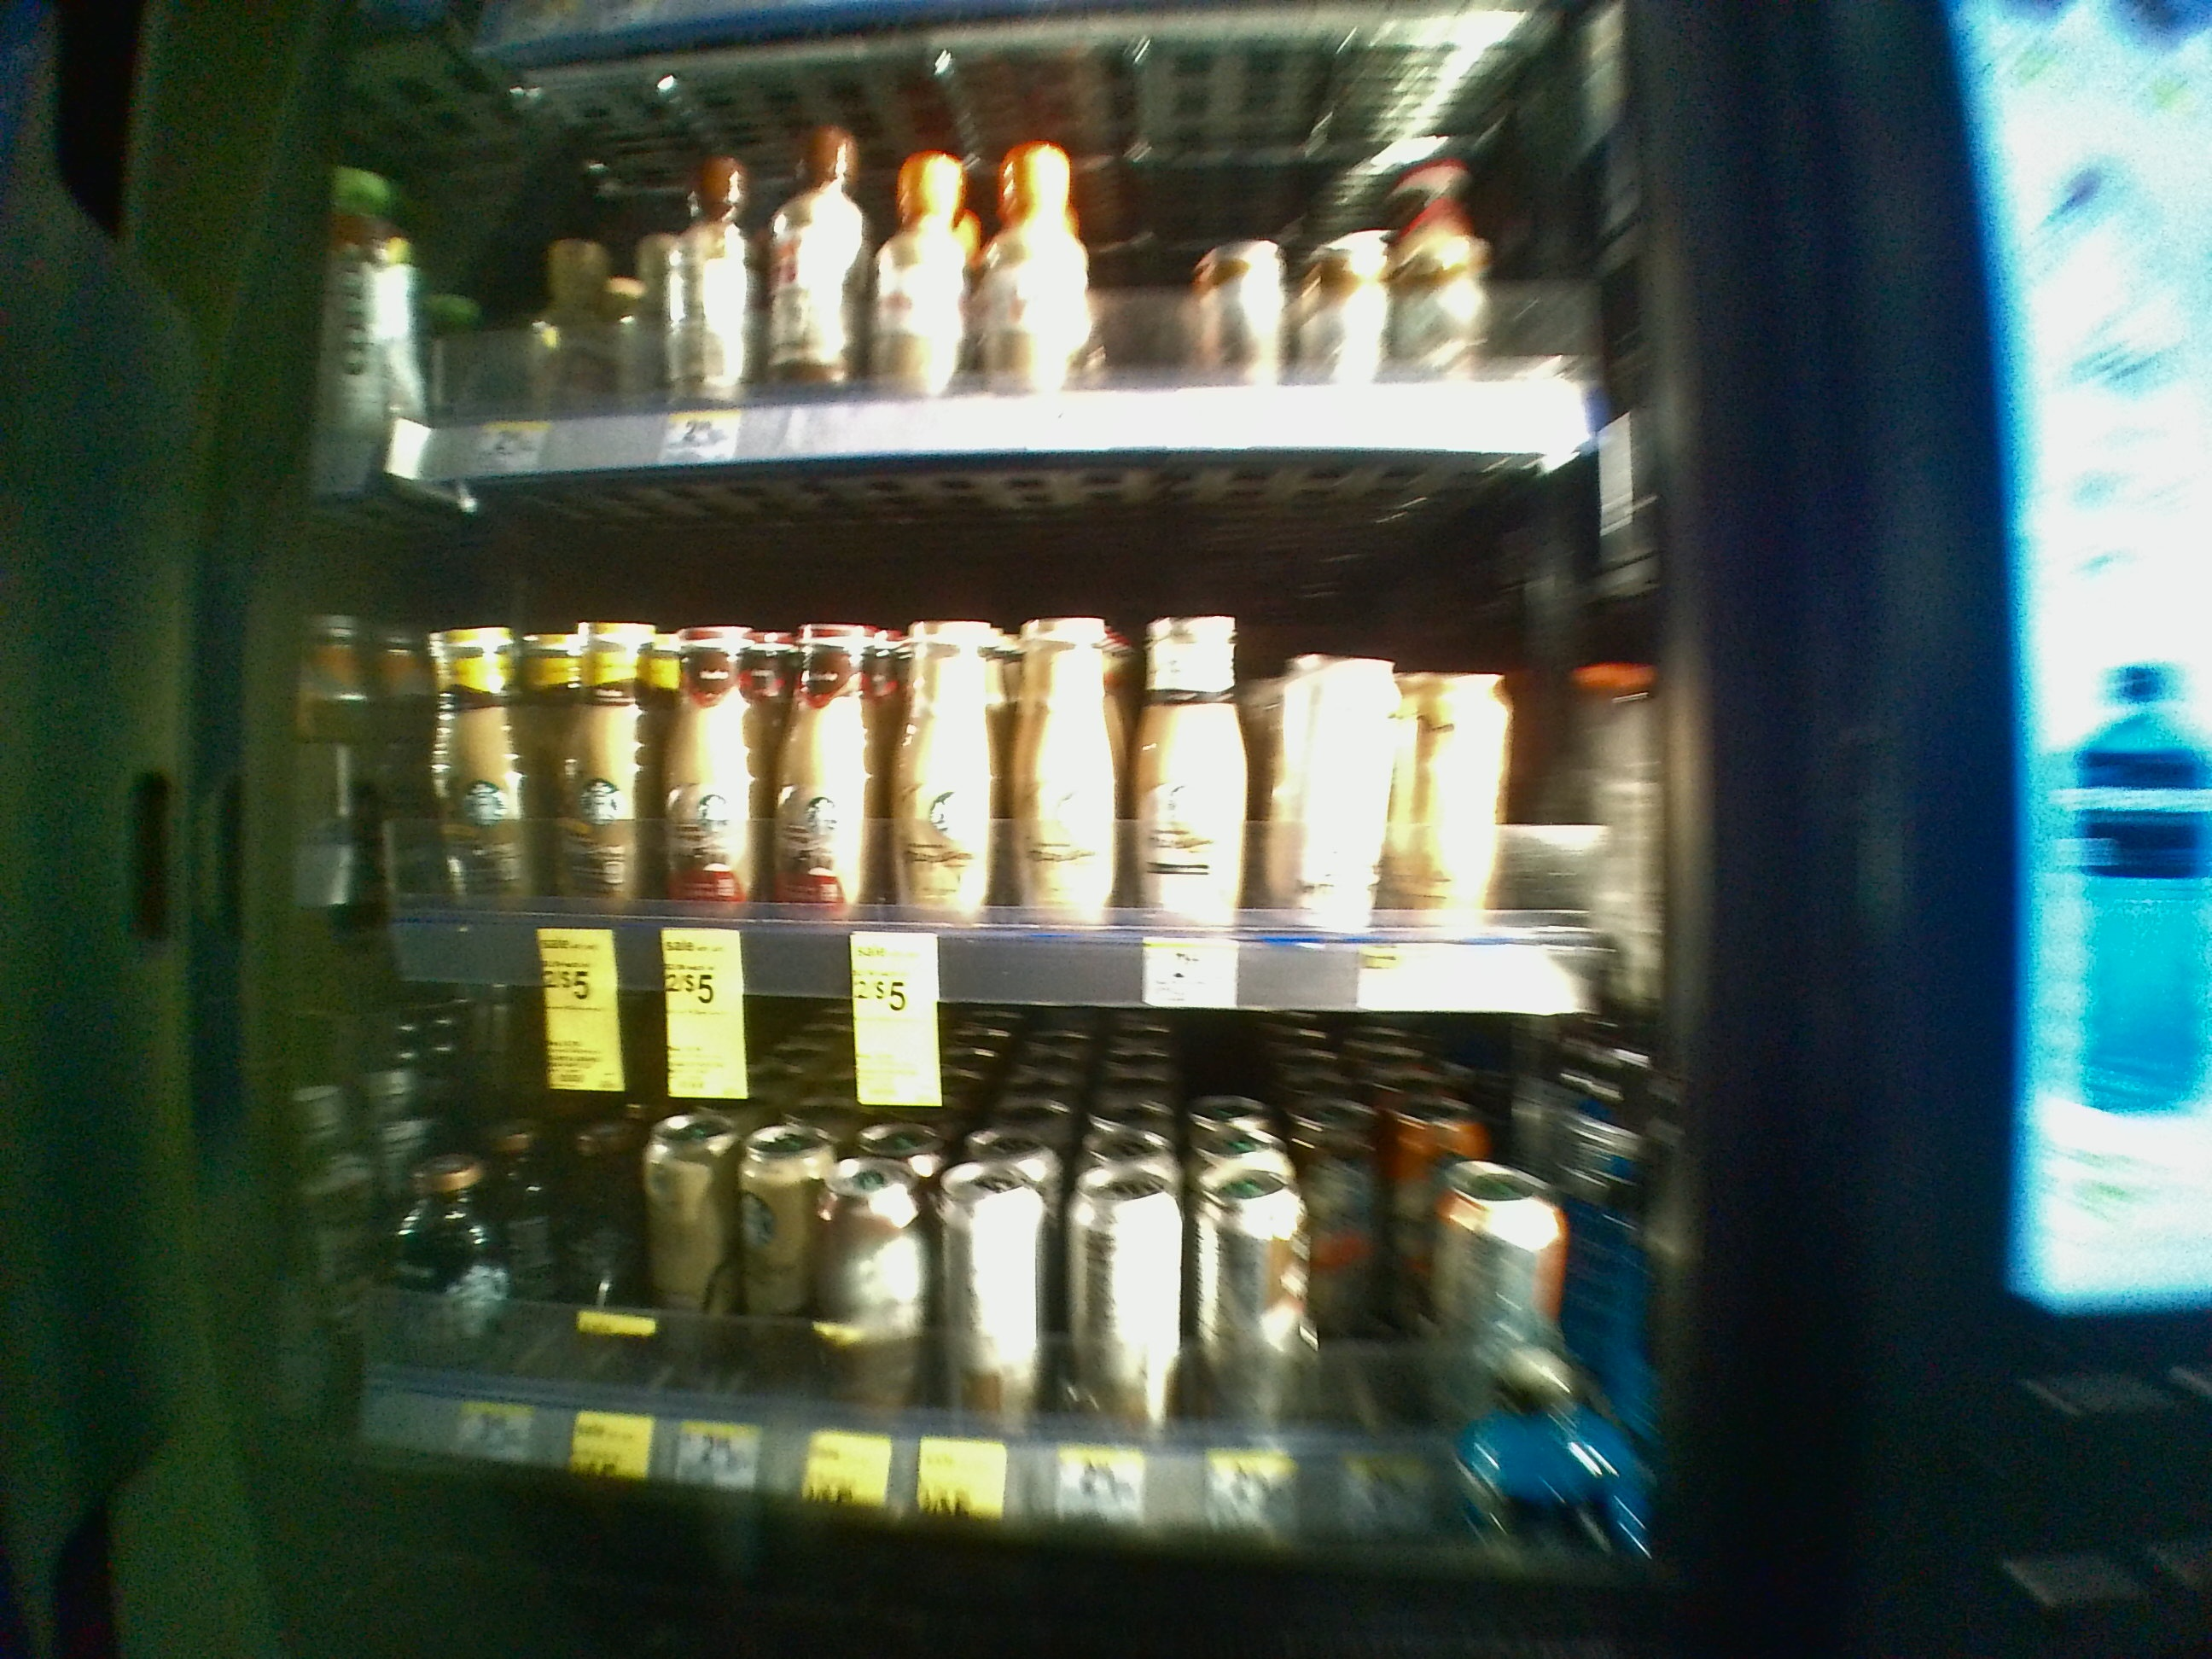shelf: (303, 992, 1723, 1581), (312, 457, 1681, 1000)
